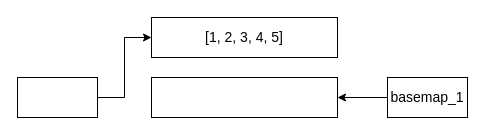
The diagram is 485 pixels wide and 135 high, and some of its shapes have lost their labels. Each missing label, with the centre of its shape:
"https://server.arcgisonline...": pixel 244 97
basemap: pixel 57 97
